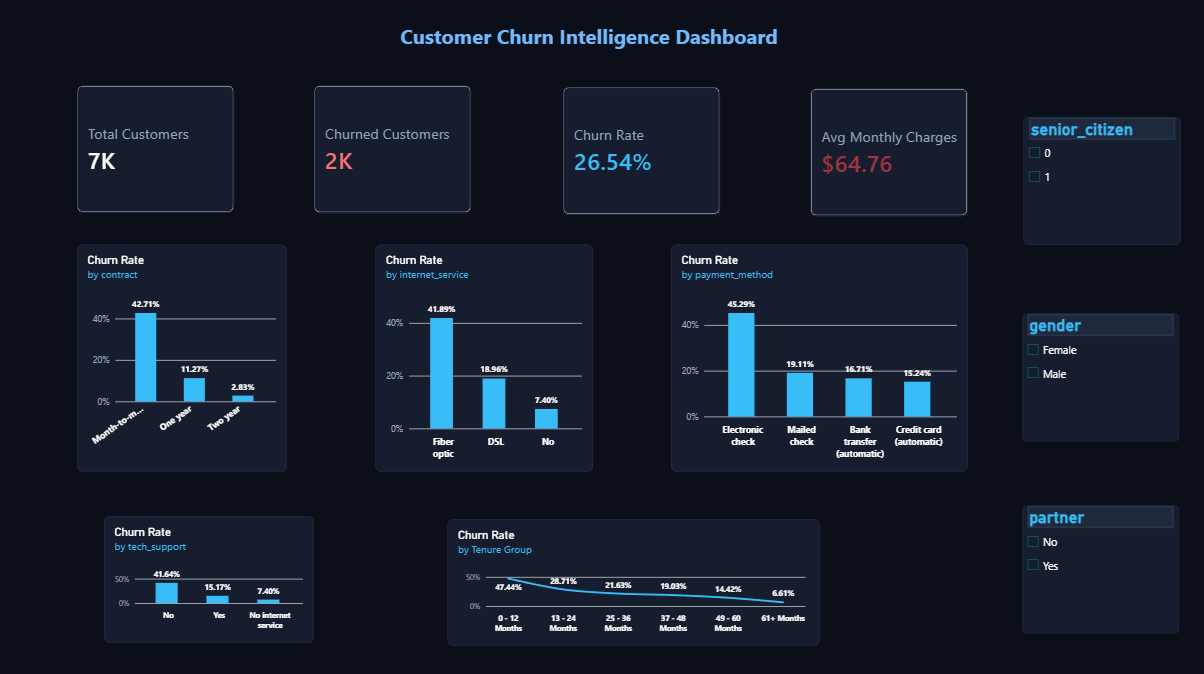

The page's visual inventory and layout, read from the dashboard file:
{"tool":"powerbi","page":{"name":"Page 1","canvas":[1920,1080],"ordinal":0},"visuals":[{"type":"cardVisual","fields":{"Data":["_Measures.Total Customers"]},"box":[123.3,140,250,202.5],"z":0},{"type":"cardVisual","fields":{"Data":["_Measures.Churned Customers"]},"box":[500,140,250,203],"z":1000},{"type":"cardVisual","fields":{"Data":["_Measures.Churn Rate"]},"box":[896.7,143.3,250,203],"z":2000},{"type":"cardVisual","fields":{"Data":["_Measures.Avg Monthly Charges"]},"box":[1291.7,145,250,203],"z":3000},{"type":"clusteredColumnChart","fields":{"Category":["billing.contract"],"Y":["_Measures.Churn Rate"]},"box":[123.3,393.3,334,362],"z":4000},{"type":"clusteredColumnChart","fields":{"Category":["services.internet_service"],"Y":["_Measures.Churn Rate"]},"box":[600,393.3,346,362],"z":5000},{"type":"clusteredColumnChart","fields":{"Category":["billing.payment_method"],"Y":["_Measures.Churn Rate"]},"box":[1070,393.3,472,362],"z":6000},{"type":"lineChart","fields":{"Category":["customers.Tenure Group"],"Y":["_Measures.Churn Rate"]},"box":[713.3,830,592,202],"z":7000},{"type":"slicer","fields":{"Values":["customers.senior_citizen"]},"box":[1630,190,250,203],"z":8000},{"type":"slicer","fields":{"Values":["customers.gender"]},"box":[1626.7,503.3,250,203],"z":9000},{"type":"slicer","fields":{"Values":["customers.partner"]},"box":[1626.7,810,250,203],"z":10000},{"type":"textbox","box":[0,40,1876.7,203.3],"z":11000},{"type":"clusteredColumnChart","fields":{"Category":["services.tech_support"],"Y":["_Measures.Churn Rate"]},"box":[166.7,826.7,334,202],"z":12000}]}

Visuals, with their boxes in screenshot pixels (x1, y1, x2, y2), scaled from the page's 1920x1080 canvas onto the 1204x674 screenshot:
cardVisual - _Measures.Total Customers: x1=77, y1=87, x2=234, y2=214
cardVisual - _Measures.Churned Customers: x1=314, y1=87, x2=470, y2=214
cardVisual - _Measures.Churn Rate: x1=562, y1=89, x2=719, y2=216
cardVisual - _Measures.Avg Monthly Charges: x1=810, y1=90, x2=967, y2=217
clusteredColumnChart - billing.contract x _Measures.Churn Rate: x1=77, y1=245, x2=287, y2=471
clusteredColumnChart - services.internet_service x _Measures.Churn Rate: x1=376, y1=245, x2=593, y2=471
clusteredColumnChart - billing.payment_method x _Measures.Churn Rate: x1=671, y1=245, x2=967, y2=471
lineChart - customers.Tenure Group x _Measures.Churn Rate: x1=447, y1=518, x2=819, y2=644
slicer - customers.senior_citizen: x1=1022, y1=119, x2=1179, y2=245
slicer - customers.gender: x1=1020, y1=314, x2=1177, y2=441
slicer - customers.partner: x1=1020, y1=506, x2=1177, y2=632
textbox: x1=0, y1=25, x2=1177, y2=152
clusteredColumnChart - services.tech_support x _Measures.Churn Rate: x1=105, y1=516, x2=314, y2=642
